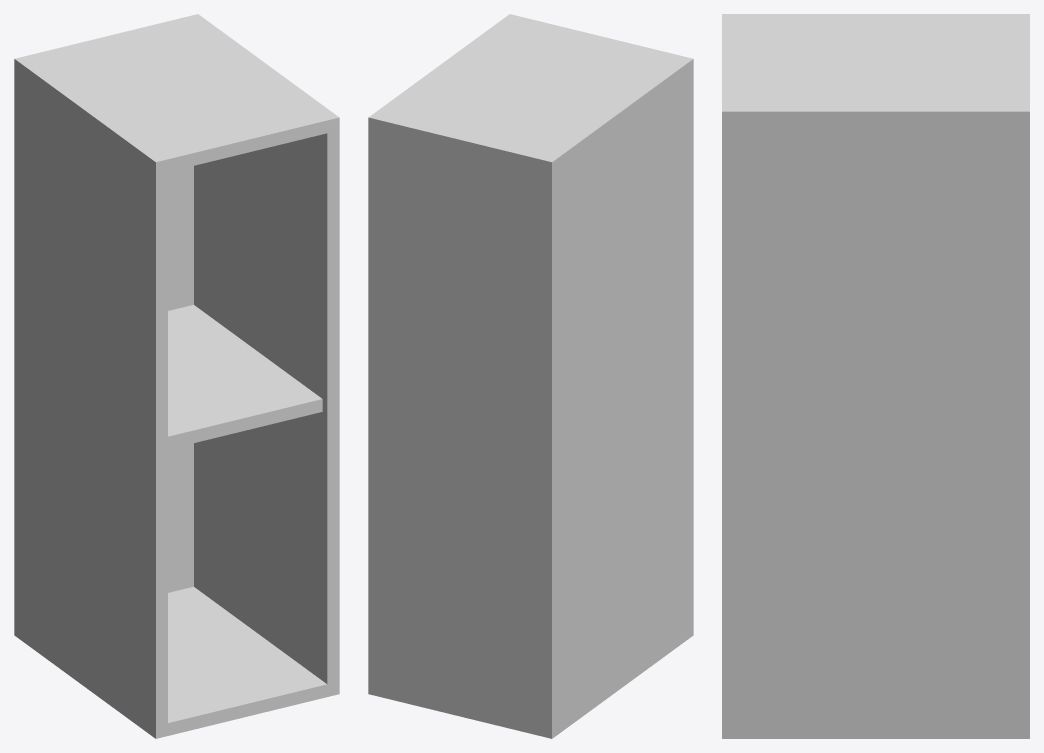
File: Kitchen1_C1_10.fbx
The picture shows the model from 3 angles, left to right: view 1: azimuth 30°, elevation 25°; view 2: azimuth 150°, elevation 25°; view 3: azimuth 270°, elevation 25°; orthographic projection. The views are drawn at different scales.
Parts seen in each view (by area): view 1: Kitchen1_C1_10; view 2: Kitchen1_C1_10; view 3: Kitchen1_C1_10.
Boxes of the visible parts, left/top/right/bottom form: Kitchen1_C1_10: left=14, top=14, right=339, bottom=738; Kitchen1_C1_10: left=368, top=14, right=693, bottom=738; Kitchen1_C1_10: left=722, top=14, right=1029, bottom=738.
Size of the model in its own units: 30 by 90 by 40.
